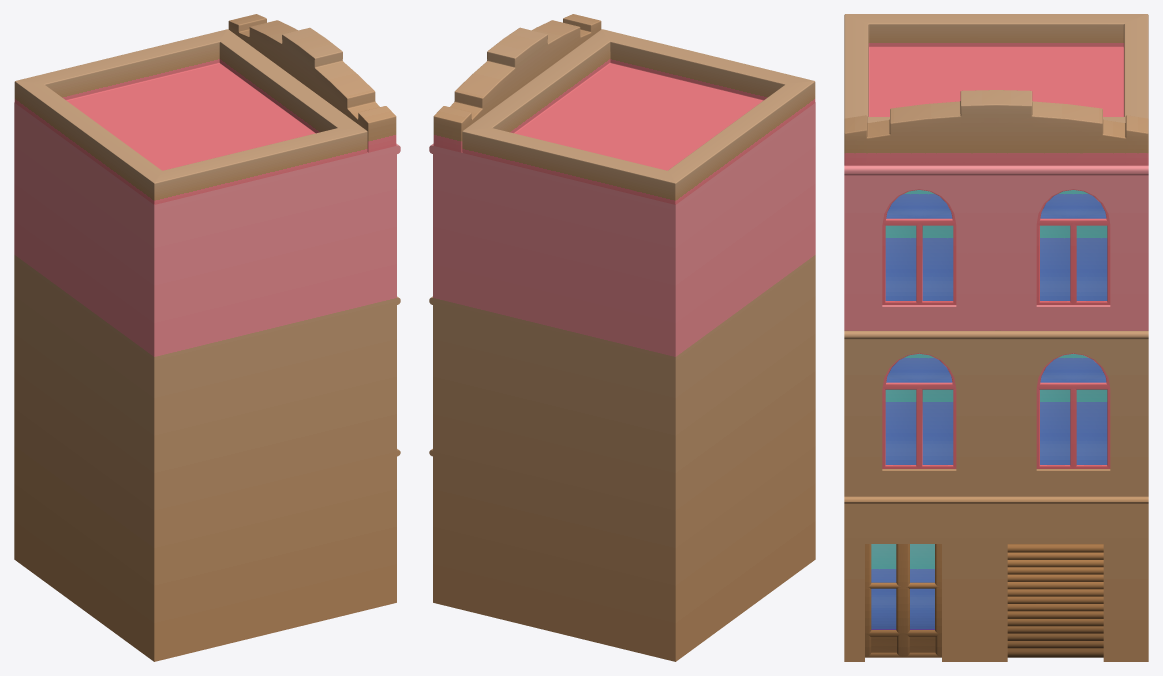
Rendered from SM_buildingBig01.fbx.
3 views of the same model, side by side, from view 1: azimuth 30°, elevation 25°; view 2: azimuth 150°, elevation 25°; view 3: azimuth 270°, elevation 25° (orthographic). The views are drawn at different scales.
Parts seen in each view (by area): view 1: SM_buildingBig; view 2: SM_buildingBig; view 3: SM_buildingBig.
Part boxes in pixels (x1,y1,x2,y2): SM_buildingBig: (14, 14, 400, 661); SM_buildingBig: (429, 14, 815, 661); SM_buildingBig: (844, 14, 1148, 661).
Size of the model in its own units: 508 by 1011 by 500.
